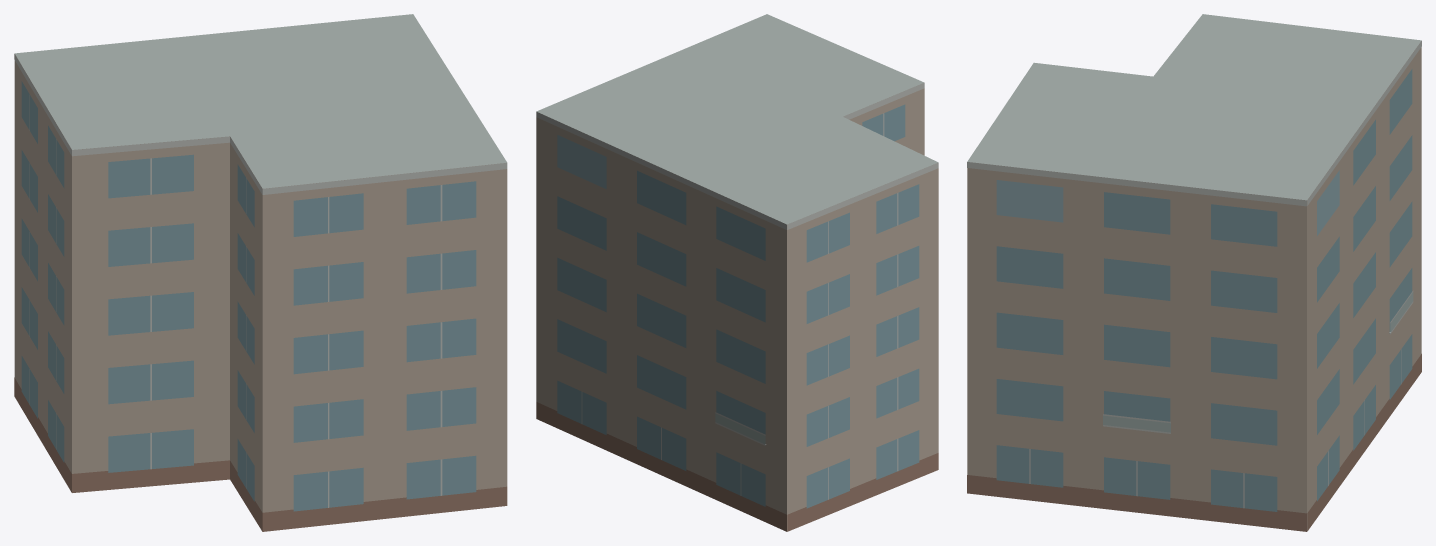
File: survey-upis-32952476.glb
3 views of the same model, side by side, from view 1: azimuth 30°, elevation 25°; view 2: azimuth 150°, elevation 25°; view 3: azimuth 270°, elevation 25° (orthographic). The views are drawn at different scales.
Parts seen in each view (by area): view 1: survey-upis-32952476.tmp; view 2: survey-upis-32952476.tmp; view 3: survey-upis-32952476.tmp.
Boxes of the visible parts, x1,y1,x2,y2 form: survey-upis-32952476.tmp: (14, 14, 507, 531); survey-upis-32952476.tmp: (536, 14, 938, 531); survey-upis-32952476.tmp: (967, 14, 1421, 531).
Size of the model in its own units: 16.04 by 13.3 by 16.54.
